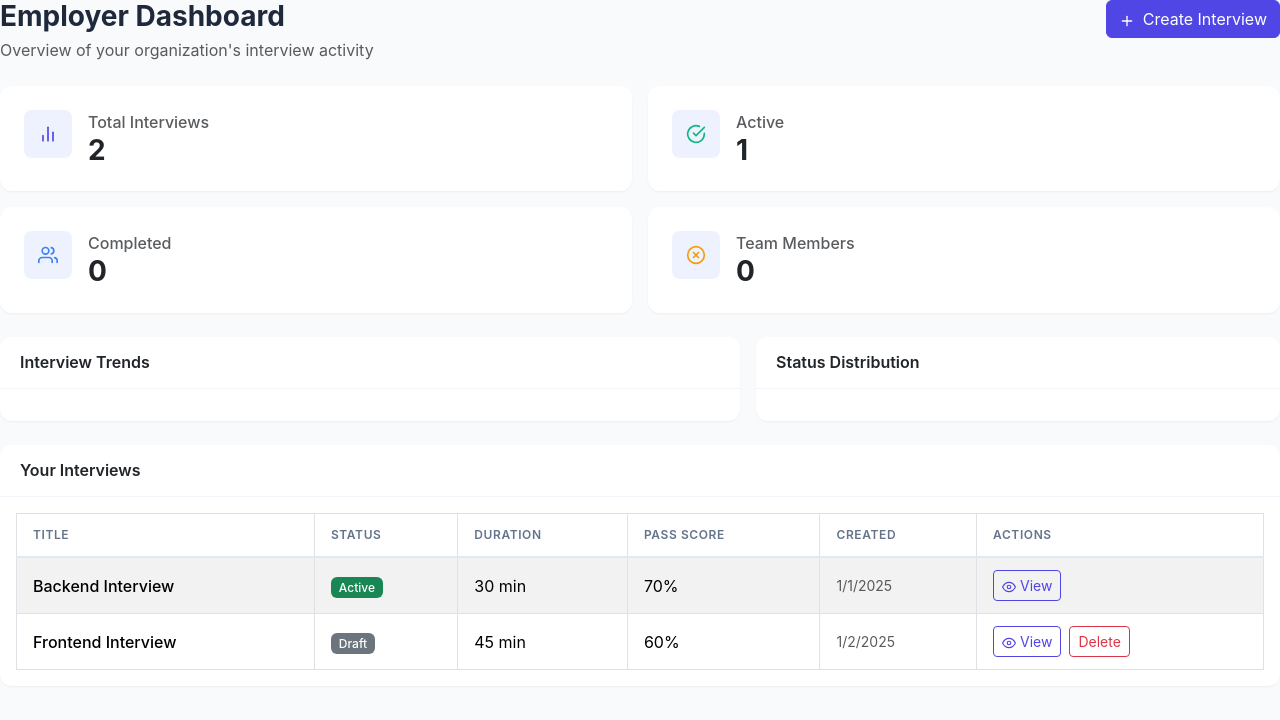
Test case: EmployerDashboard › deletes a draft interview after confirmation
Expected: the text "Frontend Interview" is shown, [16,614,314,670]
What coordinates should you click on to do the following:
click the button "Delete"
I would click on:
 (1100, 642)
Its box is [1069,626,1130,657].
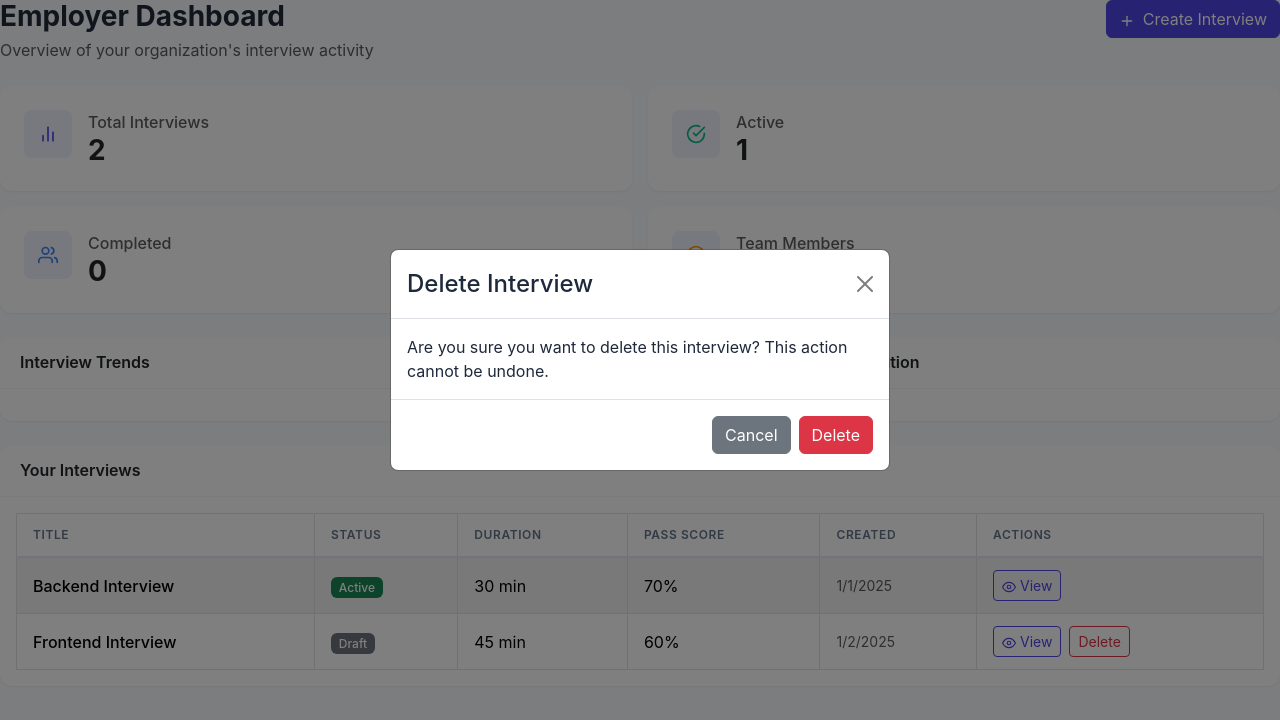
What coordinates should you click on to do the following:
click the button "Delete"
I would click on:
 (836, 435)
Its box is [798,416,873,454].
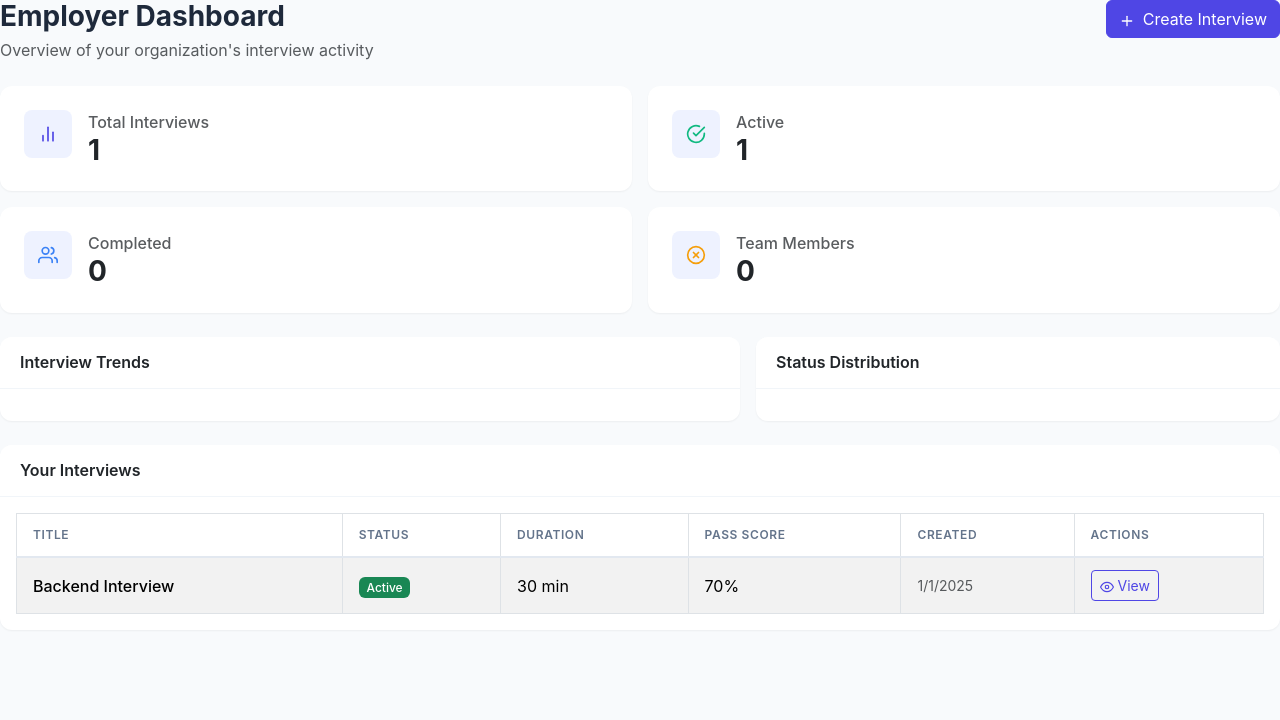
Expected: the text "Backend Interview" is shown, [16,557,342,614]
Expected: the text "Frontend Interview" is gone
